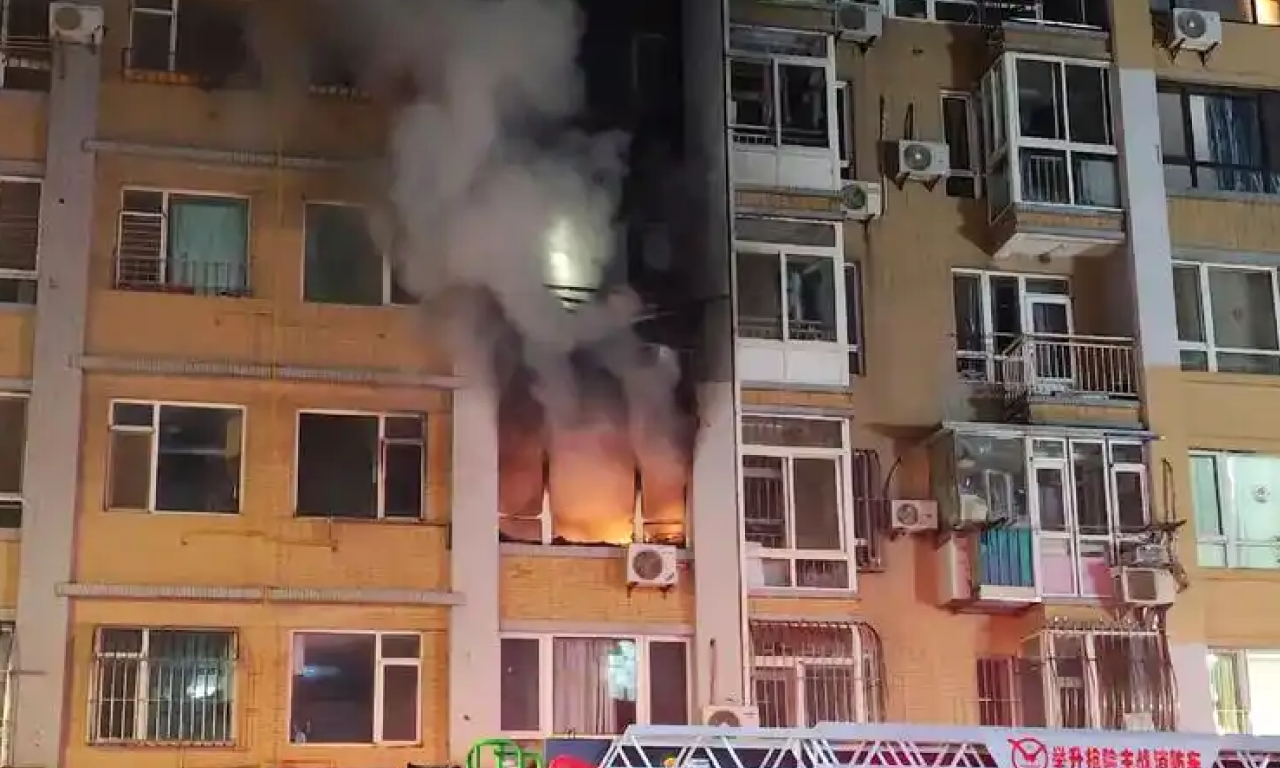fire: (338, 24, 711, 569)
